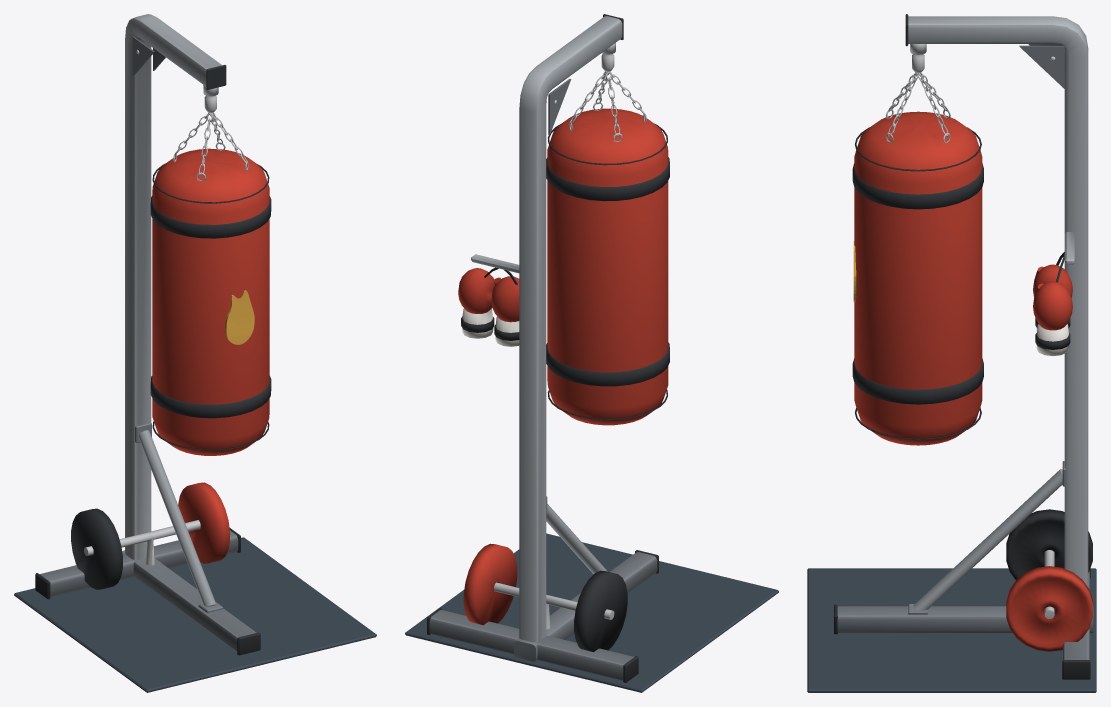
Rendered from heavyBag.glb.
3 renders of one model, left to right at view 1: azimuth 30°, elevation 25°; view 2: azimuth 150°, elevation 25°; view 3: azimuth 270°, elevation 25°, orthographic. The views are drawn at different scales.
Parts seen in each view (by area): view 1: body, bag; view 2: body, bag; view 3: body, bag.
Part boxes in pixels (x1,y1,x2,y2): body: (14, 14, 376, 692); bag: (150, 95, 271, 455); body: (405, 14, 778, 692); bag: (546, 54, 669, 425); body: (807, 14, 1096, 692); bag: (852, 54, 983, 445).
Size of the model in its own units: 0.86 by 2.01 by 0.86.
